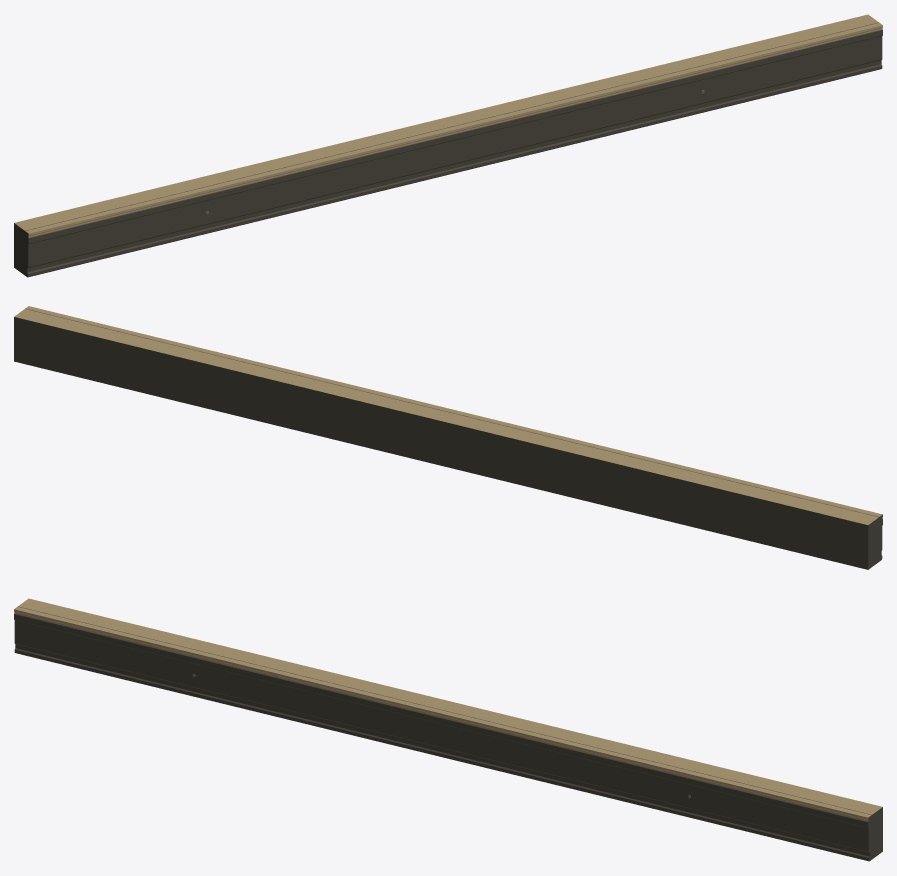
Rendered from mall-floor-edge-2m.glb.
3 views of the same model, one above another, from view 1: azimuth 30°, elevation 25°; view 2: azimuth 150°, elevation 25°; view 3: azimuth 330°, elevation 25° (orthographic).
Parts seen in each view (by area): view 1: Straight full-depth section LOD0; view 2: Straight full-depth section LOD0; view 3: Straight full-depth section LOD0.
Boxes of the visible parts, box(x1,y1,x2,y2) form: Straight full-depth section LOD0: box(14, 14, 882, 277); Straight full-depth section LOD0: box(14, 306, 882, 569); Straight full-depth section LOD0: box(14, 598, 882, 861).
Bounding box in the file's own units: 2 × 0.1 × 0.06.
